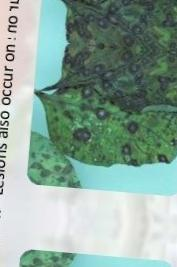Tomato leaf bacterial spot: (35, 41, 177, 174)
